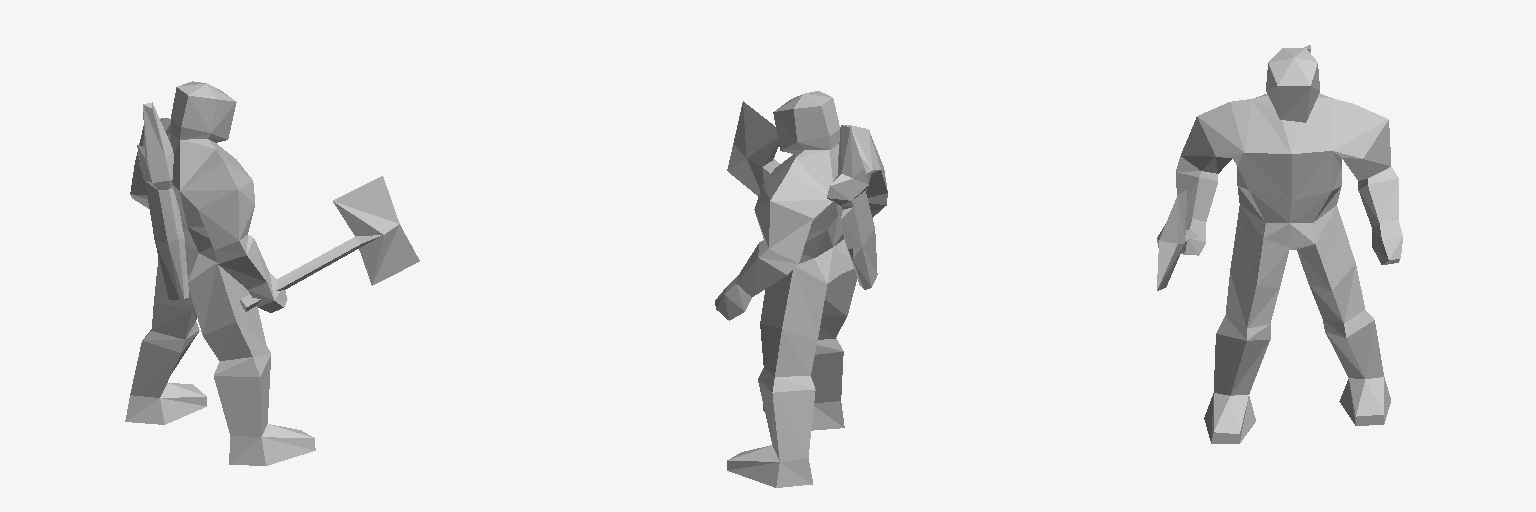
Rendered from player.obj.
3 views of the same model, side by side, from view 1: azimuth 30°, elevation 25°; view 2: azimuth 150°, elevation 25°; view 3: azimuth 270°, elevation 25° (orthographic).
Visible parts, largest first — view 1: player_D:\Steam\steamapps\common\Quake\Id1\progs\player; view 2: player_D:\Steam\steamapps\common\Quake\Id1\progs\player; view 3: player_D:\Steam\steamapps\common\Quake\Id1\progs\player.
Part boxes in pixels (left/top/right/bottom): player_D:\Steam\steamapps\common\Quake\Id1\progs\player: left=125, top=81, right=419, bottom=465; player_D:\Steam\steamapps\common\Quake\Id1\progs\player: left=715, top=91, right=887, bottom=487; player_D:\Steam\steamapps\common\Quake\Id1\progs\player: left=1157, top=45, right=1402, bottom=443.
Size of the model in its own units: 1.18 by 1.95 by 1.22.